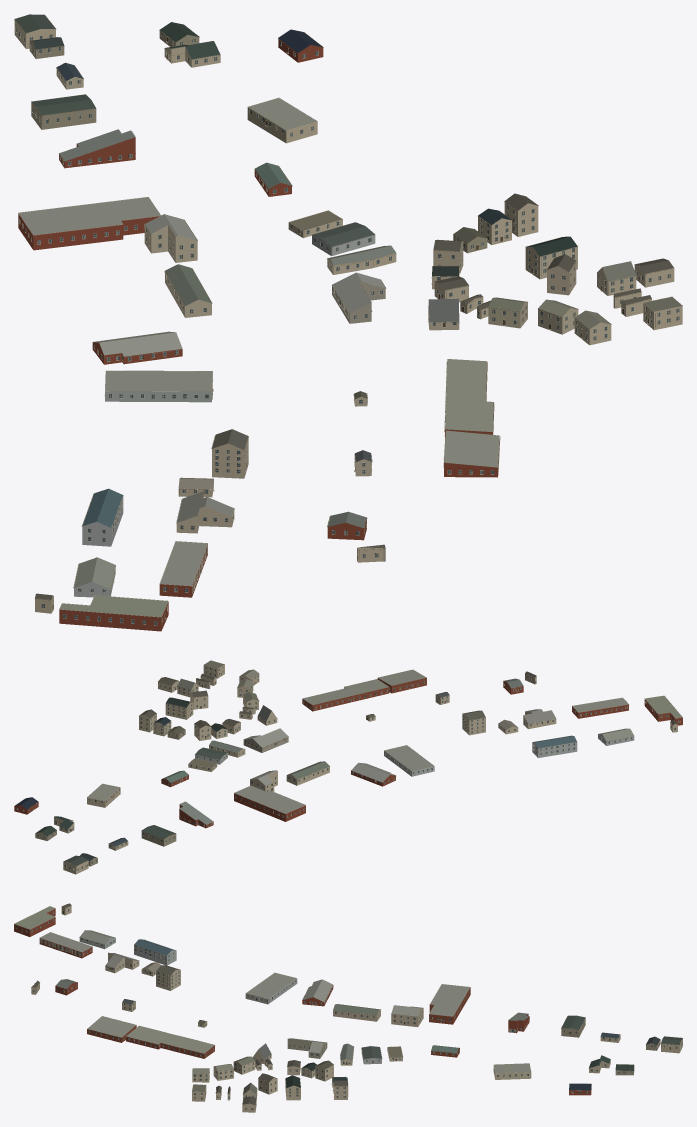
The picture shows the model from 3 angles, top to bottom: view 1: azimuth 30°, elevation 25°; view 2: azimuth 150°, elevation 25°; view 3: azimuth 270°, elevation 25°; orthographic projection. The views are drawn at different scales.
Parts seen in each view (by area): view 1: 1_-3_283027682_0, 1_-3_598637967_9, 1_-3_283027871_3, 1_-3_598639265_22; view 2: 1_-3_283027682_0, 1_-3_598637967_9, 1_-3_283027871_3, 1_-3_598639265_22; view 3: 1_-3_283027682_0, 1_-3_598637967_9, 1_-3_283027871_3, 1_-3_598639265_22, 1_-3_-8059_150.
Part boxes in pixels (x1,y1,x2,y2): 1_-3_283027682_0: (14, 14, 682, 631); 1_-3_598637967_9: (14, 19, 682, 613); 1_-3_283027871_3: (74, 234, 375, 597); 1_-3_598639265_22: (29, 30, 487, 253); 1_-3_283027682_0: (14, 660, 682, 871); 1_-3_598637967_9: (54, 664, 677, 874); 1_-3_283027871_3: (195, 734, 634, 776); 1_-3_598639265_22: (35, 730, 185, 866); 1_-3_283027682_0: (14, 903, 682, 1110); 1_-3_598637967_9: (31, 905, 682, 1112); 1_-3_283027871_3: (59, 937, 513, 1064); 1_-3_598639265_22: (332, 1018, 660, 1087); 1_-3_-8059_150: (287, 1038, 327, 1058).
Size of the model in its own units: 374 by 27.28 by 506.
